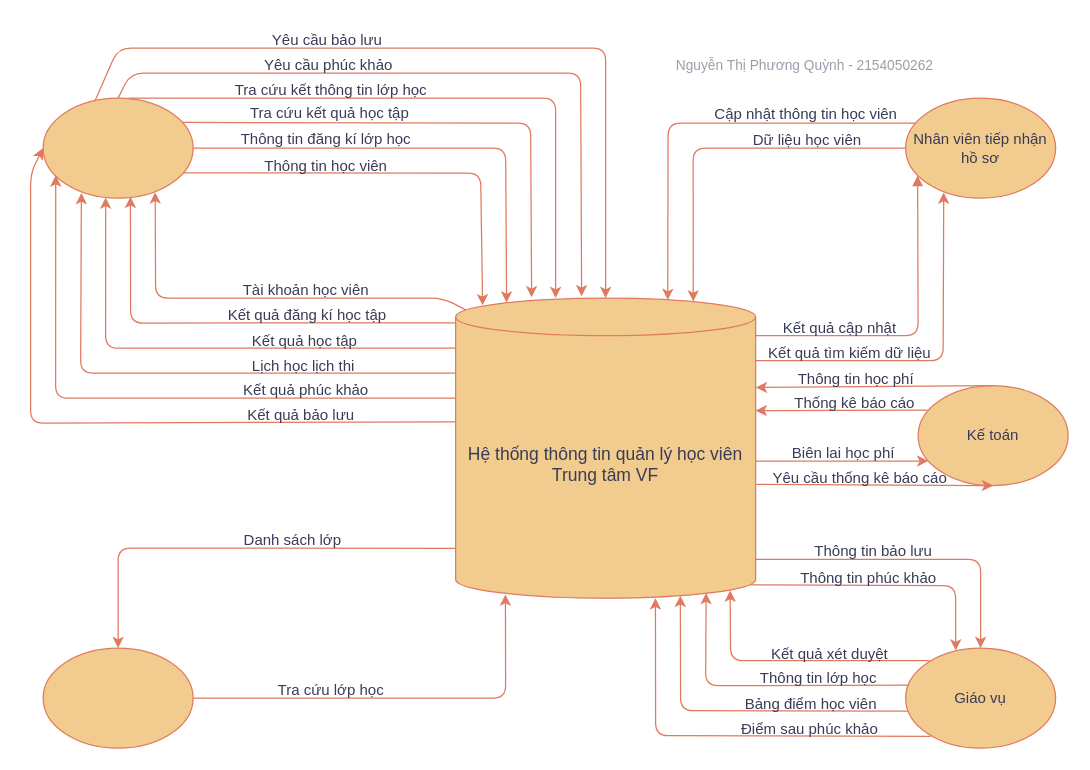
Some shapes in this 1090 by 770 pixel diagram are drawn without their labels. The shapes that lost their labels are listed below. From the top down, each one's box as (x1, y1, x2, y2) in pixels, then its label:
(42, 97, 193, 198): Học viên
(42, 647, 193, 748): Giáo viên
